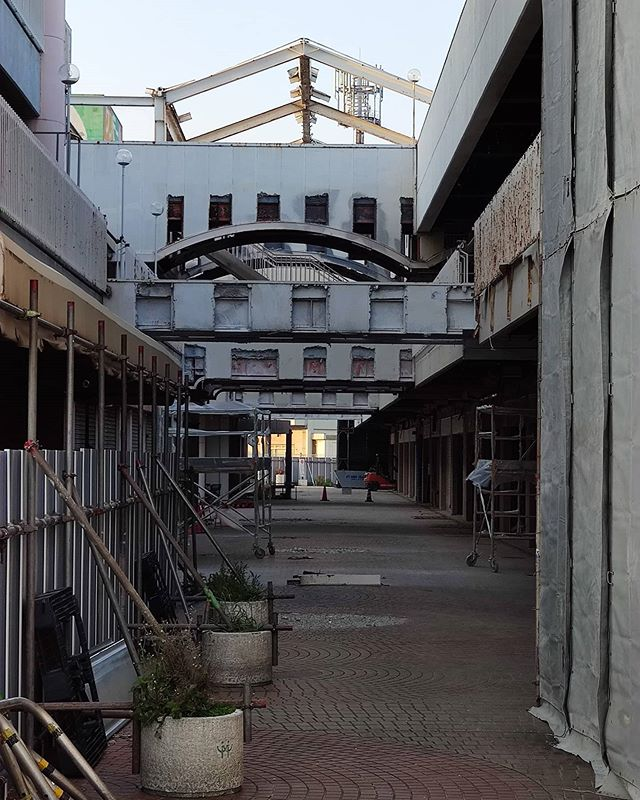building: (6, 25, 634, 442)
